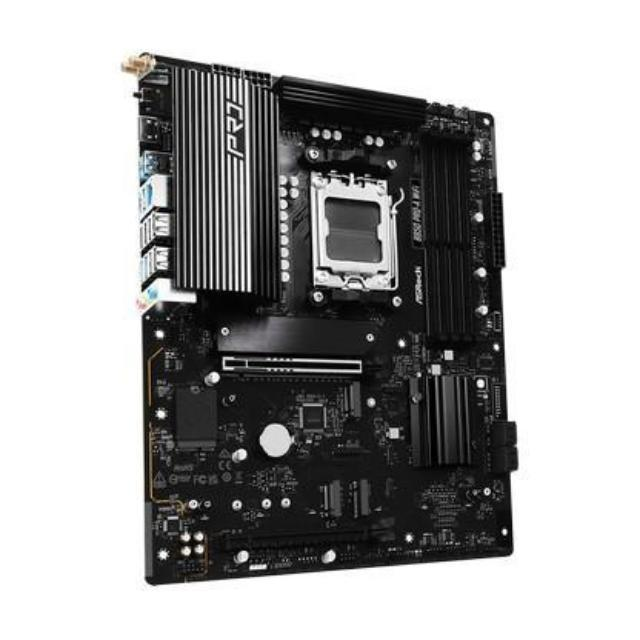Mainboard: (112, 37, 520, 594)
